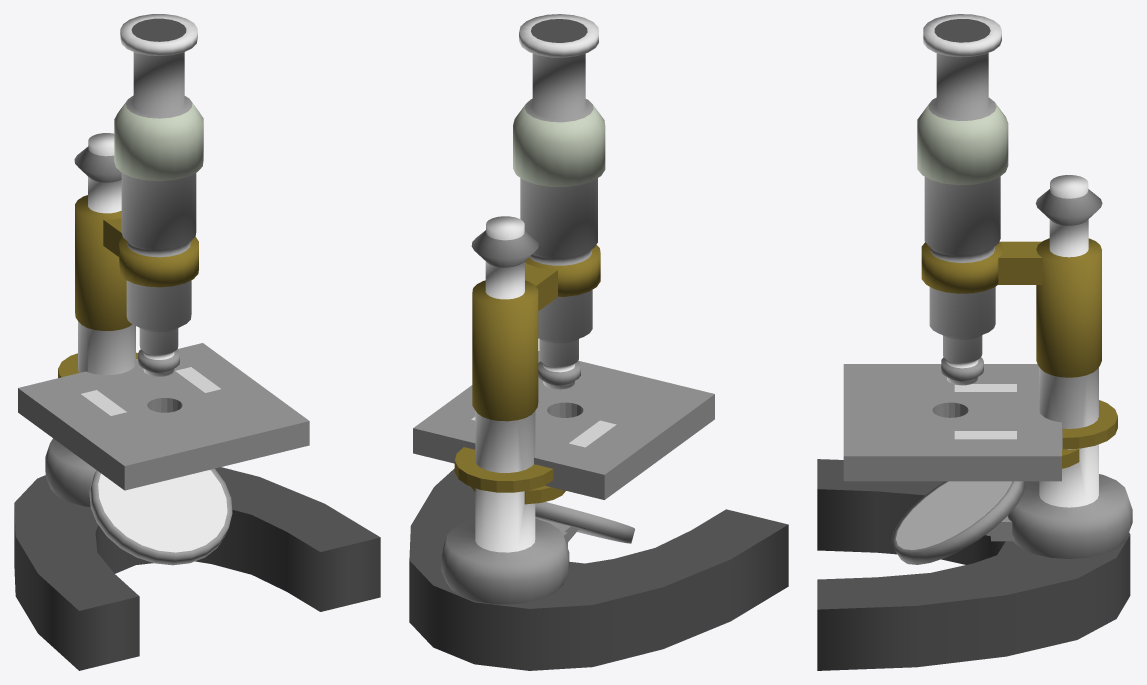
Rendered from microscope.fbx.
The picture shows the model from 3 angles, left to right: view 1: azimuth 30°, elevation 25°; view 2: azimuth 150°, elevation 25°; view 3: azimuth 270°, elevation 25°; orthographic projection. The views are drawn at different scales.
Parts seen in each view (by area): view 1: Plane.001; view 2: Plane.001; view 3: Plane.001.
Part boxes in pixels (x1,y1,x2,y2): Plane.001: [14, 14, 380, 670]; Plane.001: [409, 14, 788, 670]; Plane.001: [817, 14, 1132, 670].
Bounding box in the file's own units: 0.3998 × 0.6995 × 0.3538.
